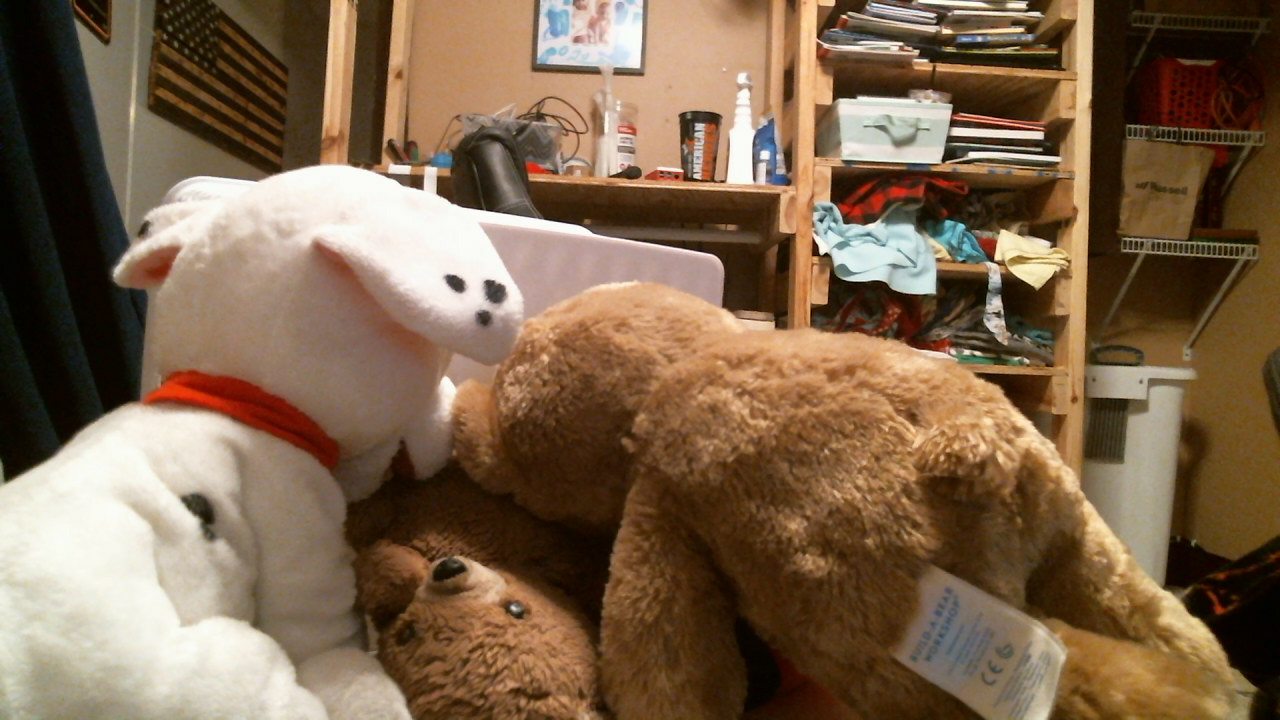Little_Mister_Bear: (396, 562, 543, 660)
